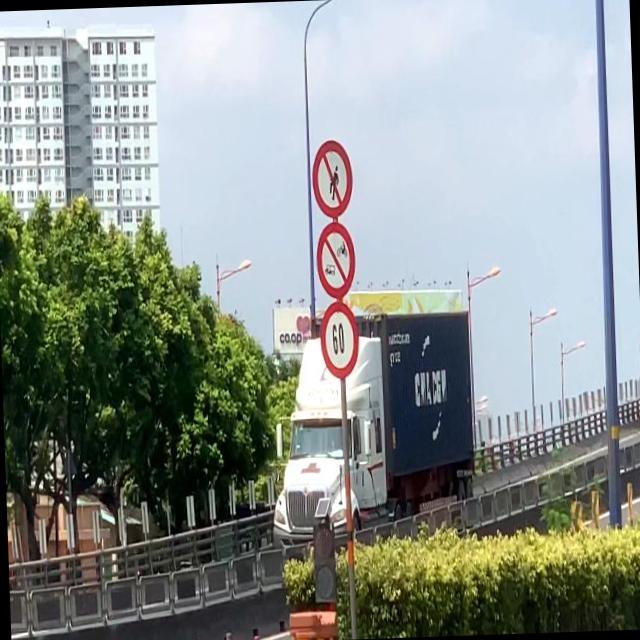P-104: (312, 223, 358, 298)
P-112: (310, 138, 355, 219)
P-127: (319, 299, 359, 376)
